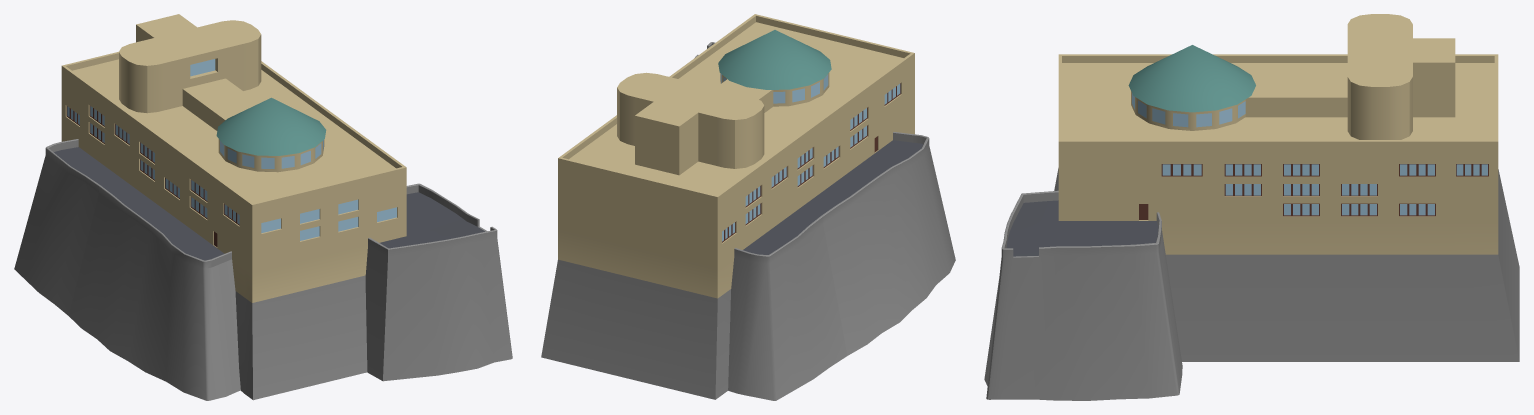
File: PicduMidi_Edificio_paneles_a-c.fbx
The picture shows the model from 3 angles, left to right: view 1: azimuth 30°, elevation 25°; view 2: azimuth 150°, elevation 25°; view 3: azimuth 270°, elevation 25°; orthographic projection. The views are drawn at different scales.
Visible parts, largest first — view 1: PicduMidi_Edificio_paneles_a-c; view 2: PicduMidi_Edificio_paneles_a-c; view 3: PicduMidi_Edificio_paneles_a-c.
Part boxes in pixels (x1,y1,x2,y2): PicduMidi_Edificio_paneles_a-c: (14,14,512,400); PicduMidi_Edificio_paneles_a-c: (541,14,955,400); PicduMidi_Edificio_paneles_a-c: (984,14,1519,400).
Bounding box in the file's own units: 5387 × 4101 × 7332.
